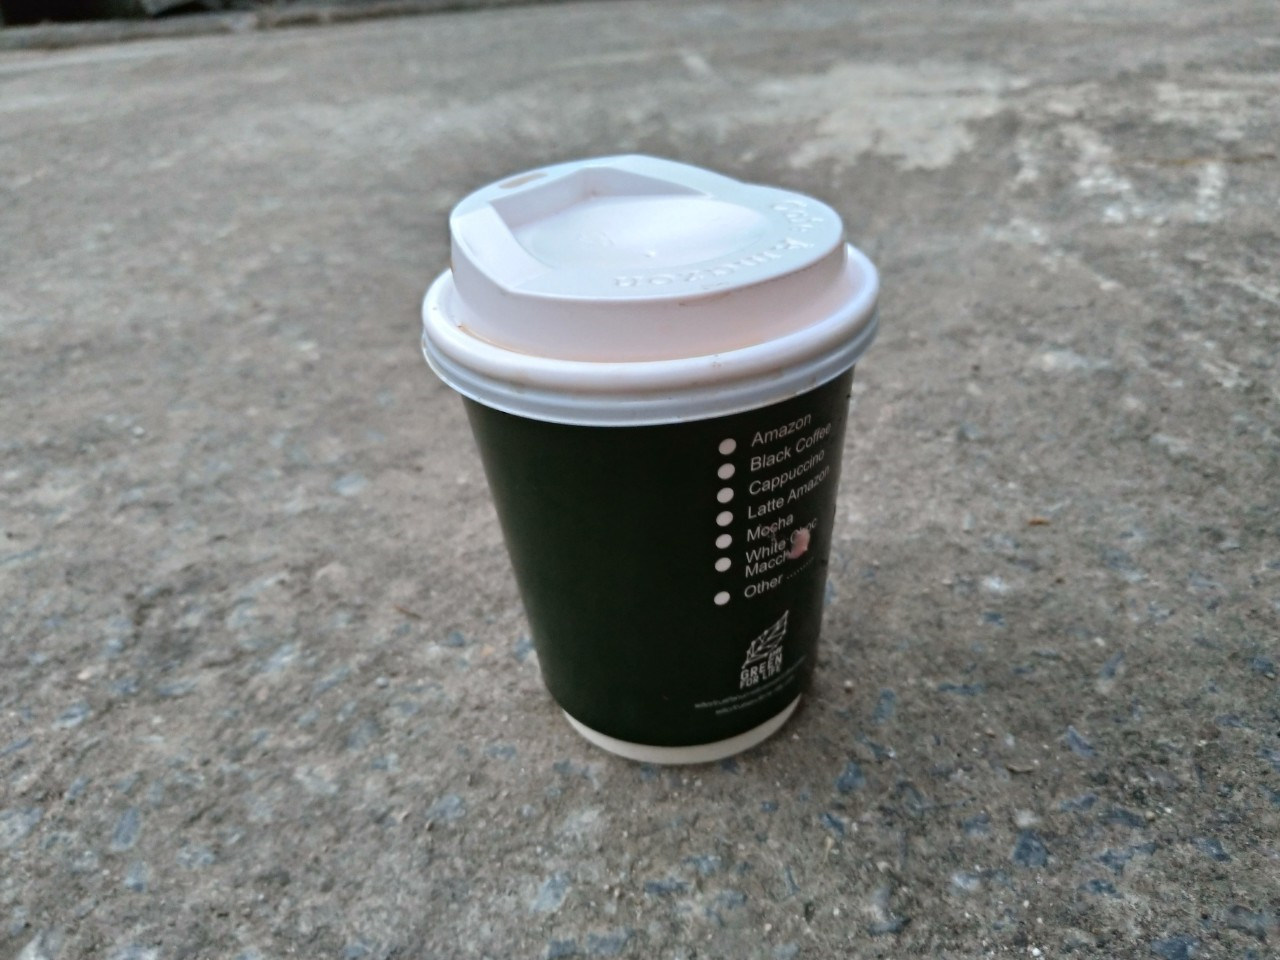PaperCup: (421, 149, 877, 765)
